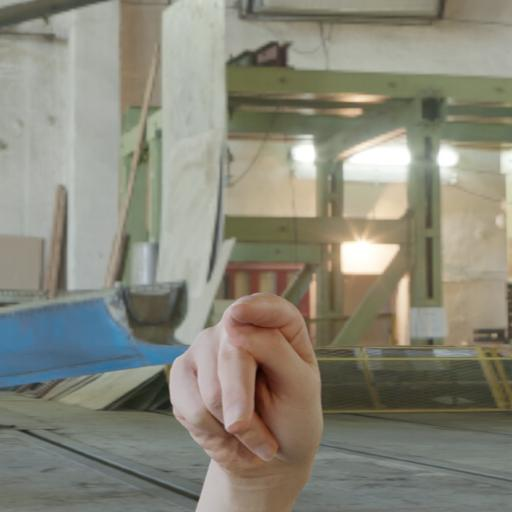P: (145, 283, 336, 512)
